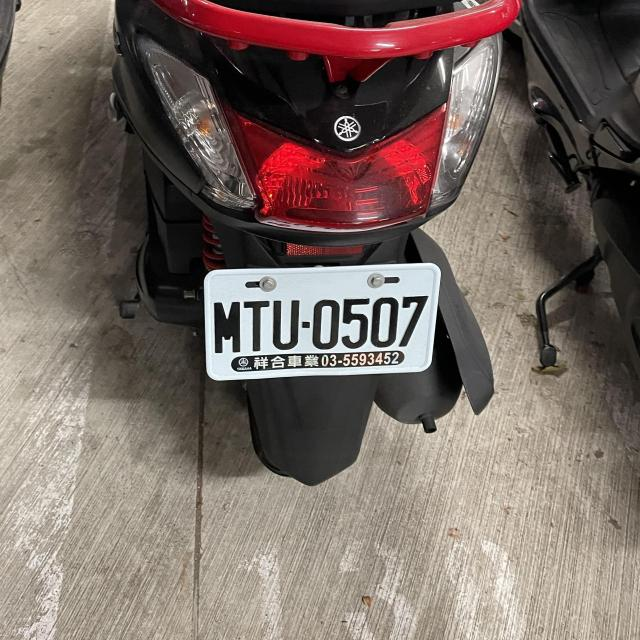W: (201, 261, 437, 381)
